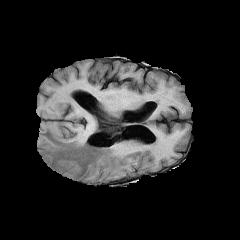glioma: (38, 121, 133, 175)
